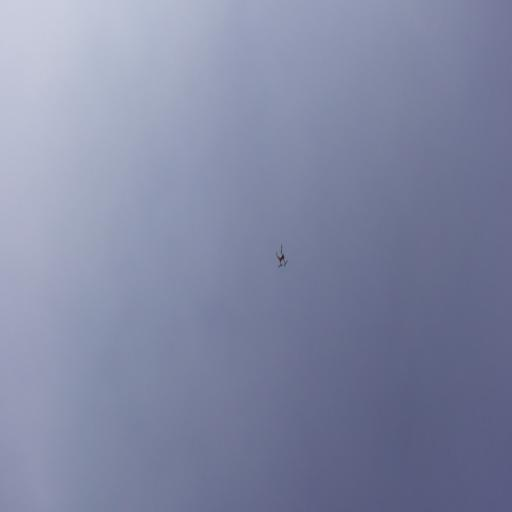drones: (274, 243, 288, 271)
